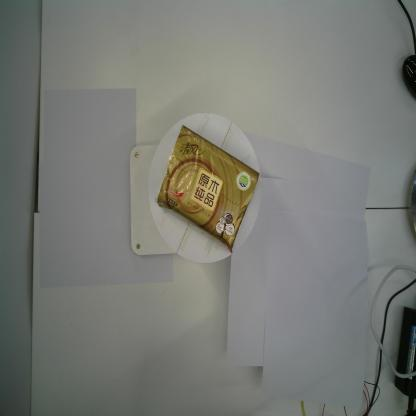Tissue: (154, 125, 260, 253)
